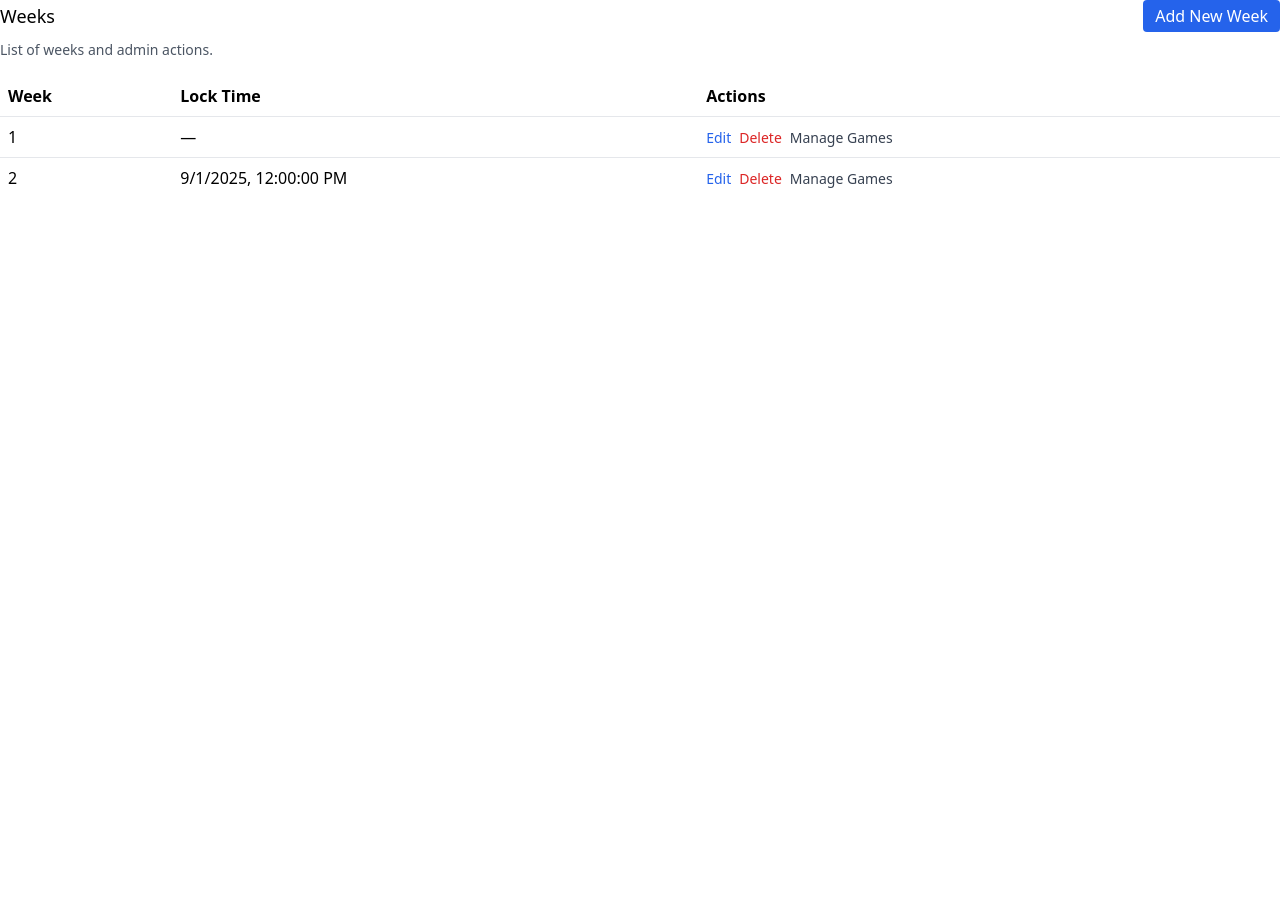
WeeksList admin CRUD › renders weeks and can add a new week
The image size is (1280, 900).
Check: the text "1" is shown, box [0, 116, 172, 158]
Check: the text "2" is shown, box [0, 158, 172, 198]
open add modal
Click the button "Add New Week".
click(1212, 16)  # box [1143, 0, 1279, 32]
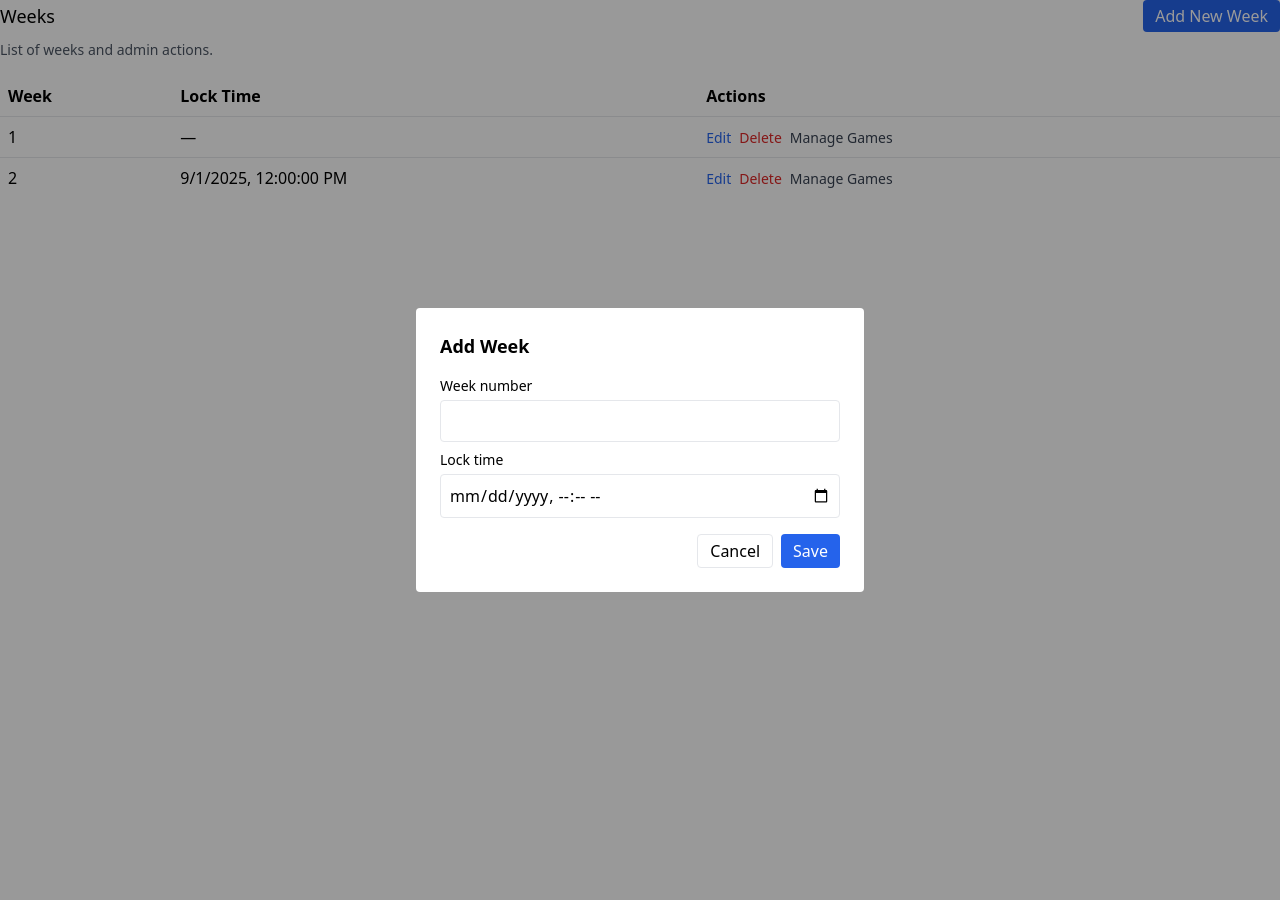
fill form
Type "3" into the number field labelled "Week number".
click(640, 421); type("3")  # box [440, 400, 840, 442]
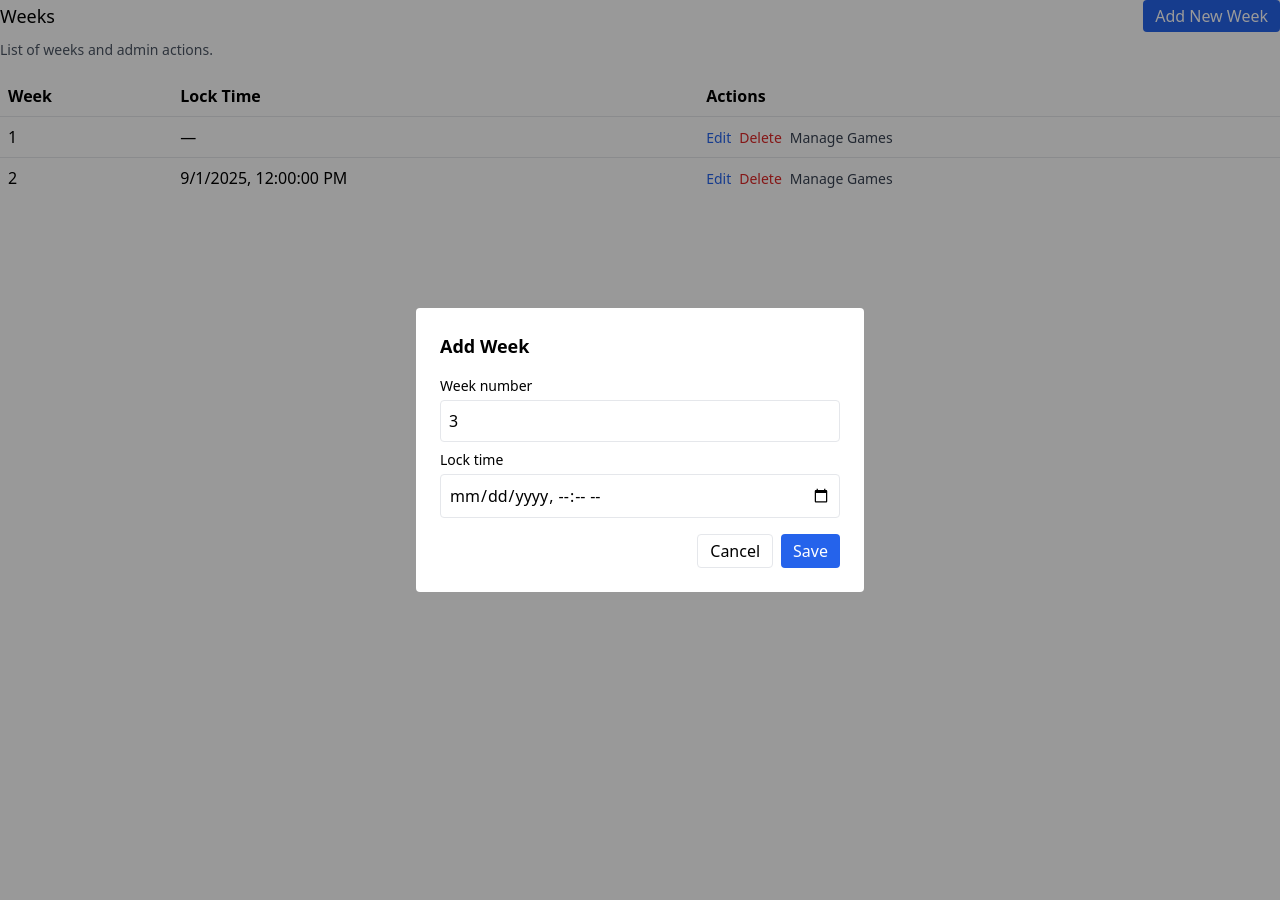
Click the button "Save".
click(811, 551)  # box [781, 534, 840, 568]
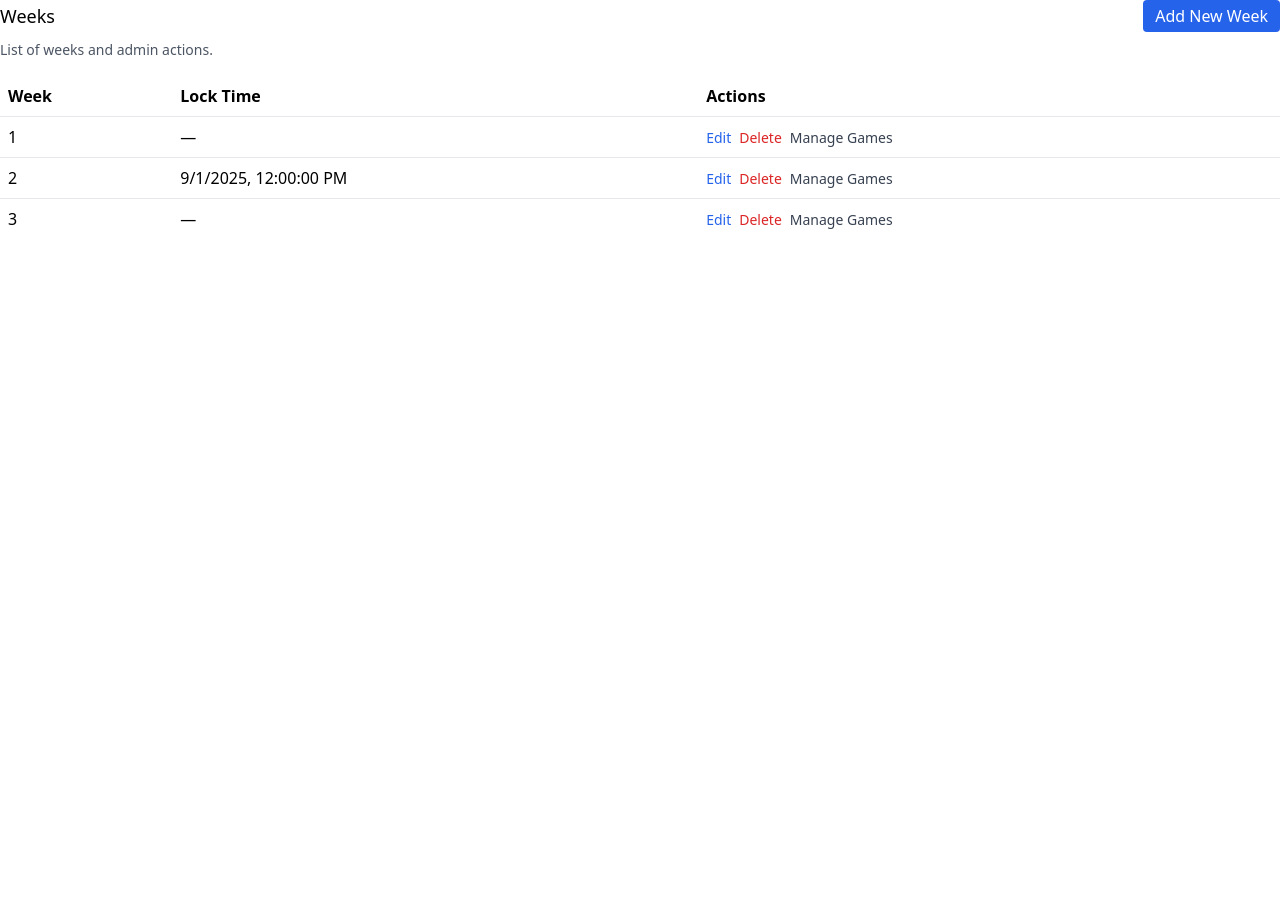
Check: the text "3" is shown, box [0, 198, 172, 239]
